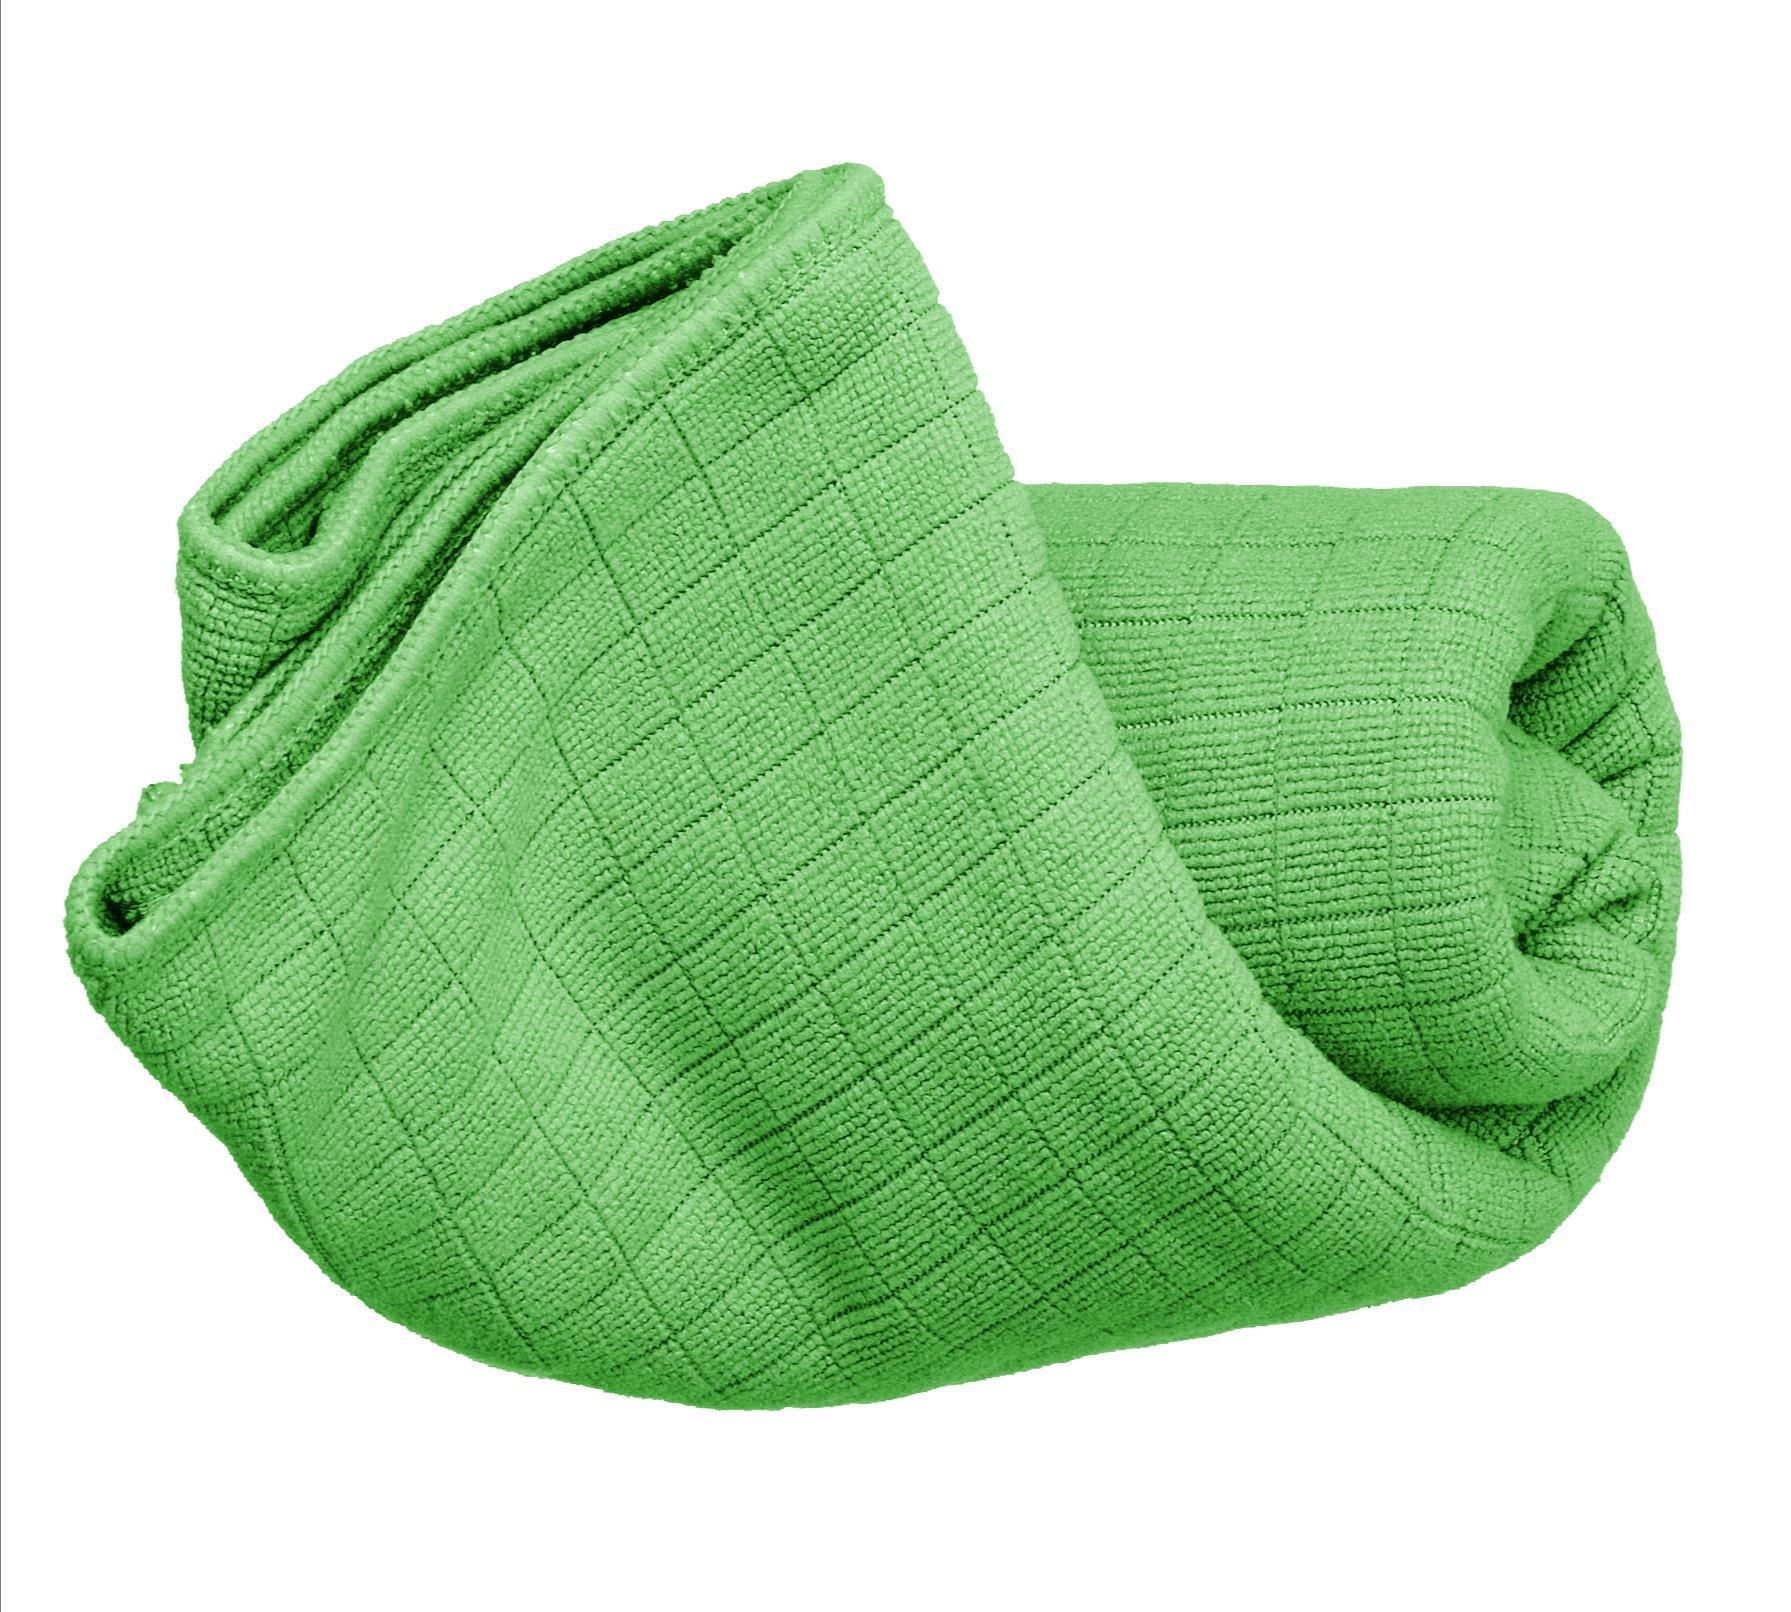towel: (67, 170, 1771, 1363)
